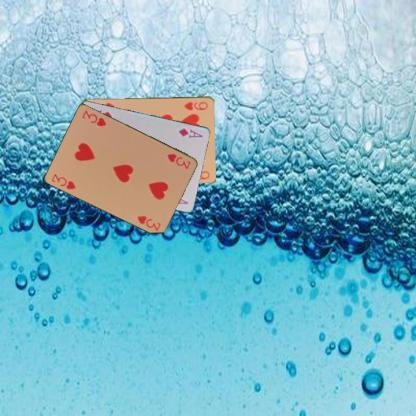3h: (164, 150, 192, 171), (49, 171, 78, 191)
9h: (182, 99, 210, 111)
Ad: (176, 126, 204, 140)
